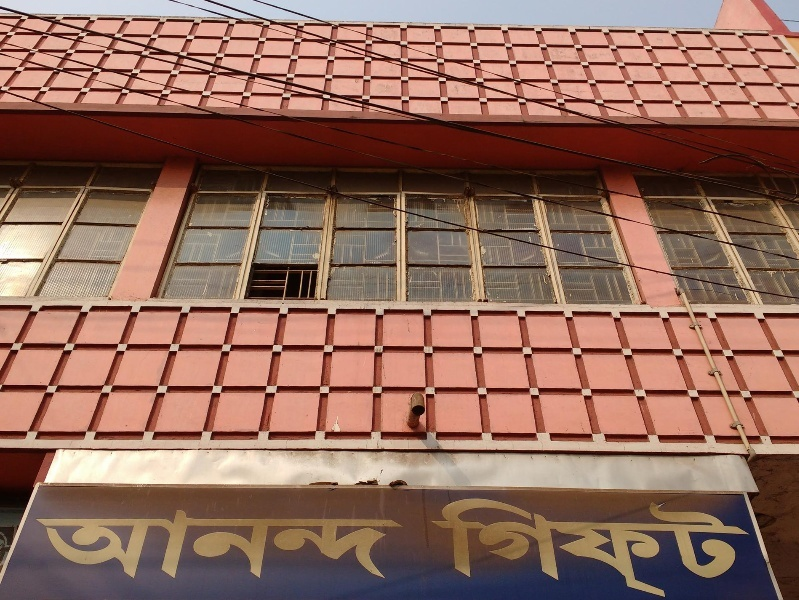text: (433, 493, 448, 598), (449, 493, 464, 598), (465, 493, 480, 598), (481, 493, 496, 598), (497, 493, 512, 598), (513, 493, 528, 598), (529, 493, 544, 598), (545, 493, 560, 598), (561, 493, 576, 598), (577, 493, 592, 598), (593, 493, 608, 598), (609, 493, 624, 598), (625, 493, 640, 598), (641, 493, 656, 598), (657, 493, 672, 598), (673, 493, 688, 598), (689, 493, 704, 598), (705, 493, 720, 598), (721, 493, 736, 598), (737, 493, 752, 598), (49, 509, 64, 581), (65, 509, 80, 581), (81, 509, 96, 581), (97, 509, 112, 581), (113, 509, 128, 581), (129, 509, 144, 581), (145, 509, 160, 581), (161, 509, 176, 581), (177, 509, 192, 581), (193, 509, 208, 581), (209, 509, 224, 581), (225, 509, 240, 581), (241, 509, 256, 581), (257, 509, 272, 581), (273, 509, 288, 581), (289, 509, 304, 581), (305, 509, 320, 581), (321, 509, 336, 581), (337, 509, 352, 581), (353, 509, 368, 581), (369, 509, 384, 581), (385, 509, 400, 581), (35, 509, 48, 581), (3, 509, 16, 562), (17, 509, 24, 562), (401, 509, 405, 581), (430, 493, 432, 598), (753, 493, 755, 598)
